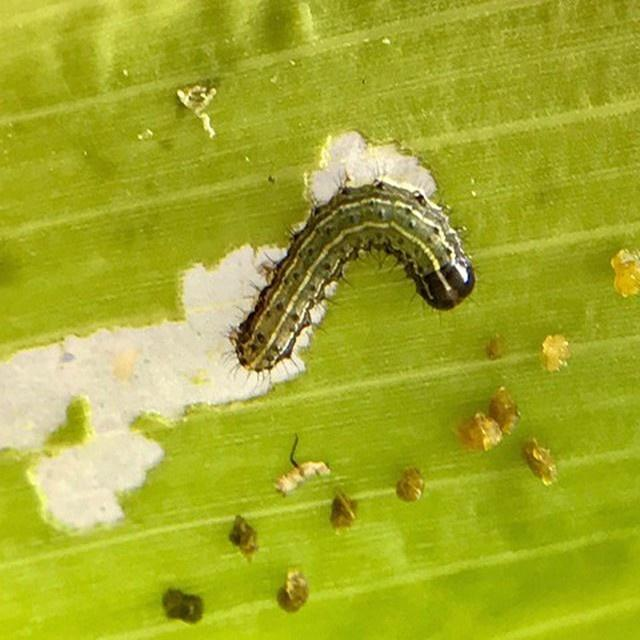Plaga: (243, 175, 475, 373)
